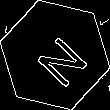N_NW: (24, 23, 86, 87)
